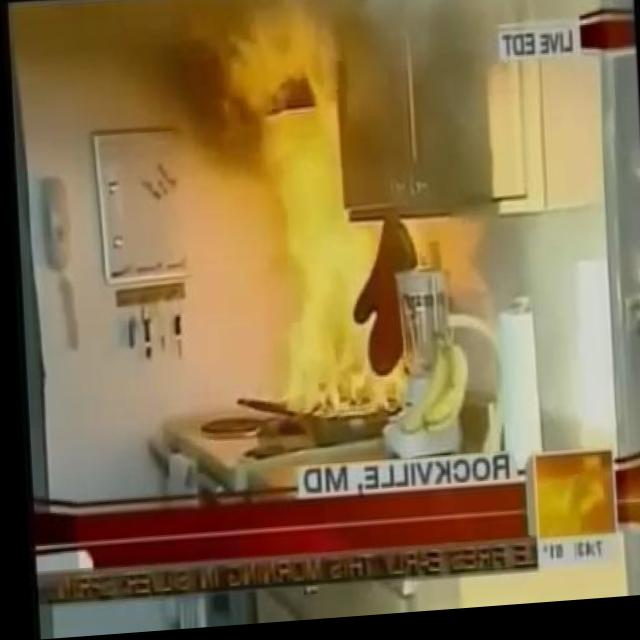fire: (218, 0, 436, 425)
